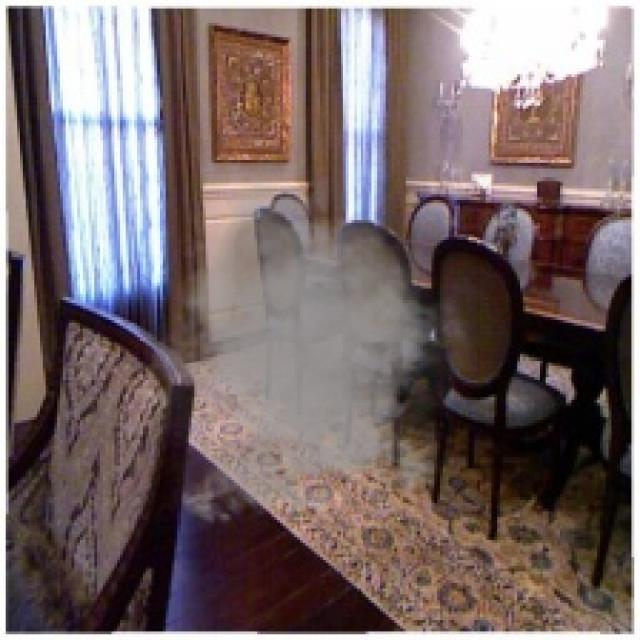smoke: (128, 177, 486, 534)
